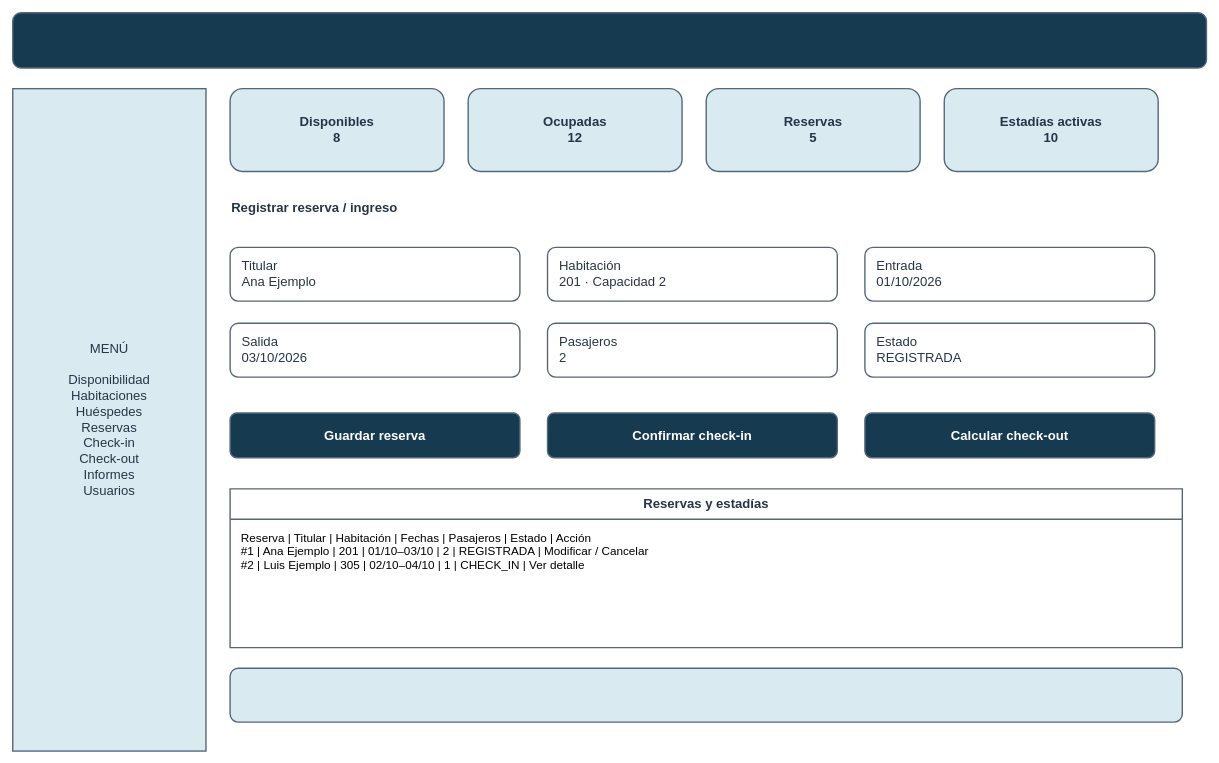
Image size: 1219x763. Some labels were removed from this diagram. Each missing label, with the centre of its shape:
Cuenta seleccionada: 2 pasajeros · 2 noches · Total $40.000 CLP: (x=706, y=694)
Hotel Duerme Bien · Sistema de pasajeros: (x=609, y=40)
